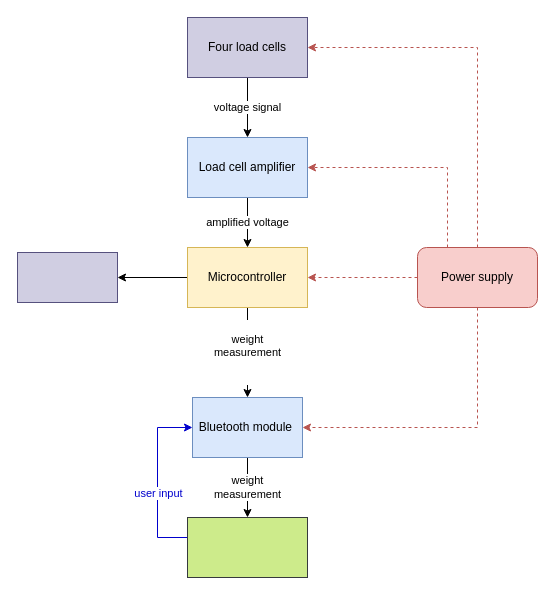
Image size: 555x595. Some labels were removed from this diagram. The shapes that lost their labels are listed below. From the top down, each one's centre as x and y in pixels, then its label:
point (67, 277): Indicator LEDs
point (247, 547): Mobile App
